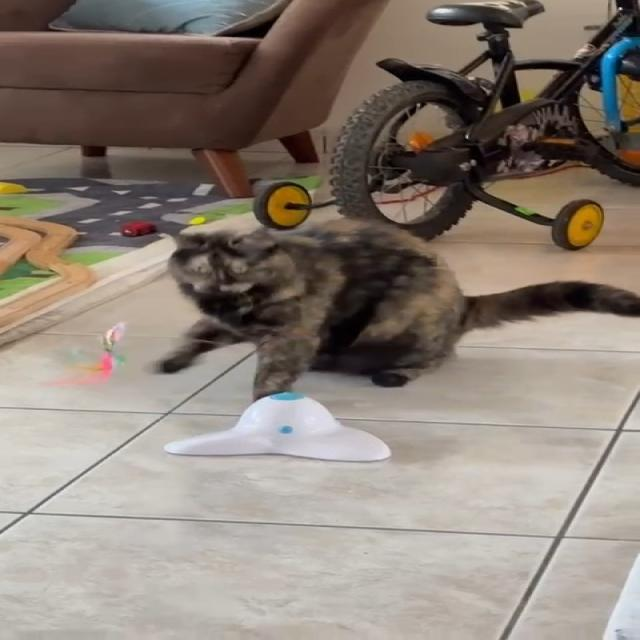authorized: (152, 214, 639, 403)
